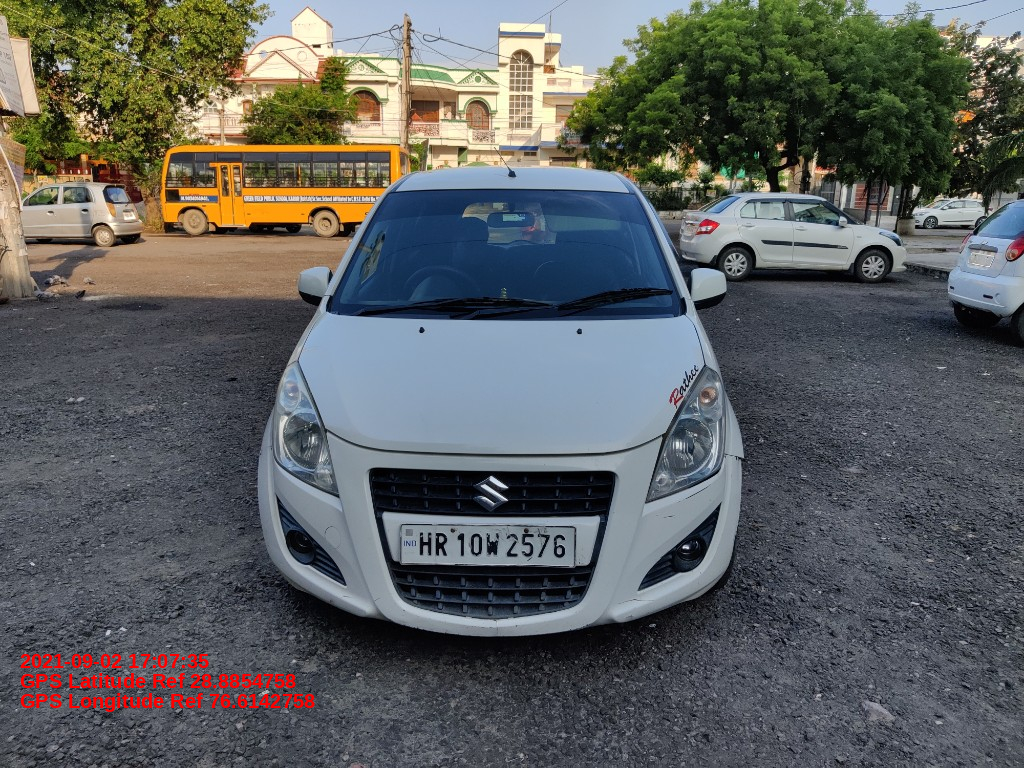Broken: (721, 447, 744, 464)
Cracked: (614, 594, 663, 607)
Scratched: (680, 481, 714, 503), (654, 510, 680, 525), (566, 620, 594, 632), (489, 620, 506, 637), (337, 590, 353, 603), (369, 594, 385, 605), (623, 612, 638, 623), (395, 607, 413, 615), (324, 597, 337, 605), (513, 619, 521, 630)
